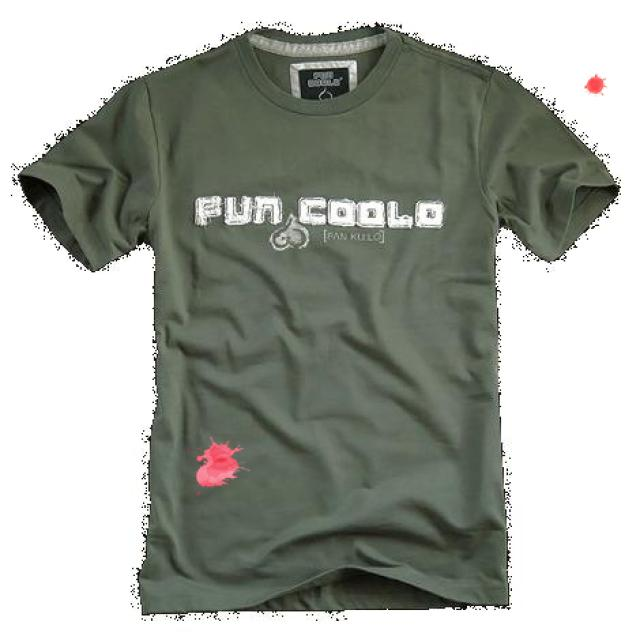stain: (190, 435, 243, 500)
